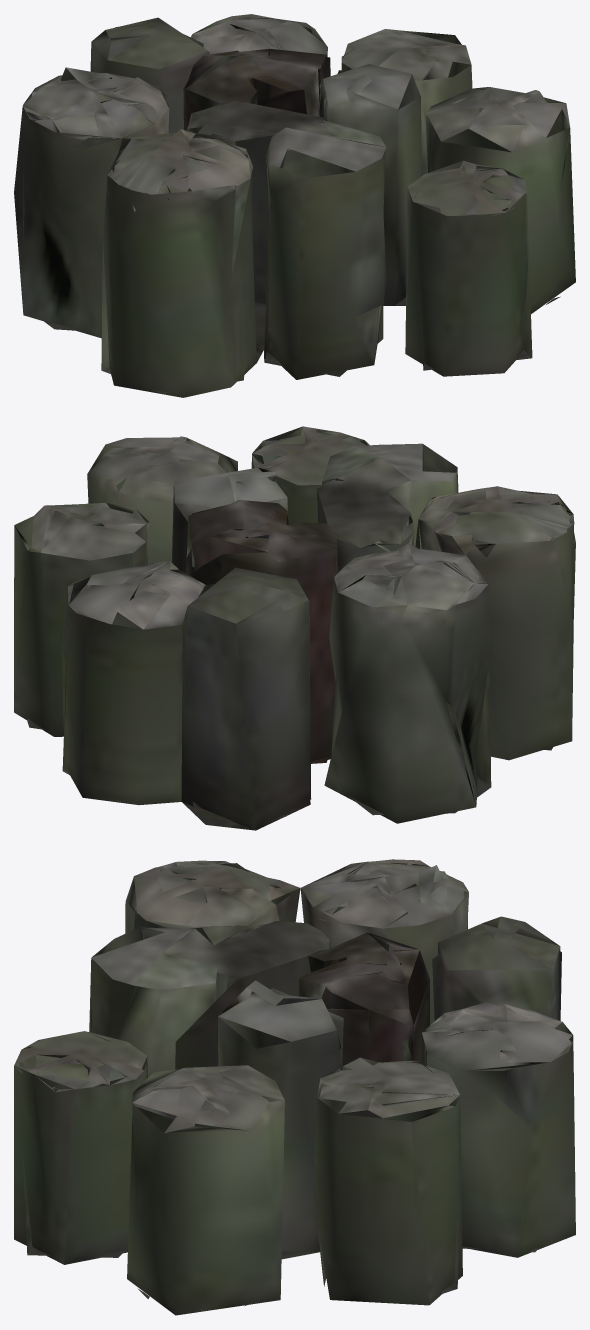
Rendered from barrels_1454587752_lod0m.glb.
3 renders of one model, top to bottom at view 1: azimuth 30°, elevation 25°; view 2: azimuth 150°, elevation 25°; view 3: azimuth 270°, elevation 25°, orthographic. The views are drawn at different scales.
Size of the model in its own units: 1.61 by 0.7618 by 1.59.
Materials: 1 (1 with a texture image).
